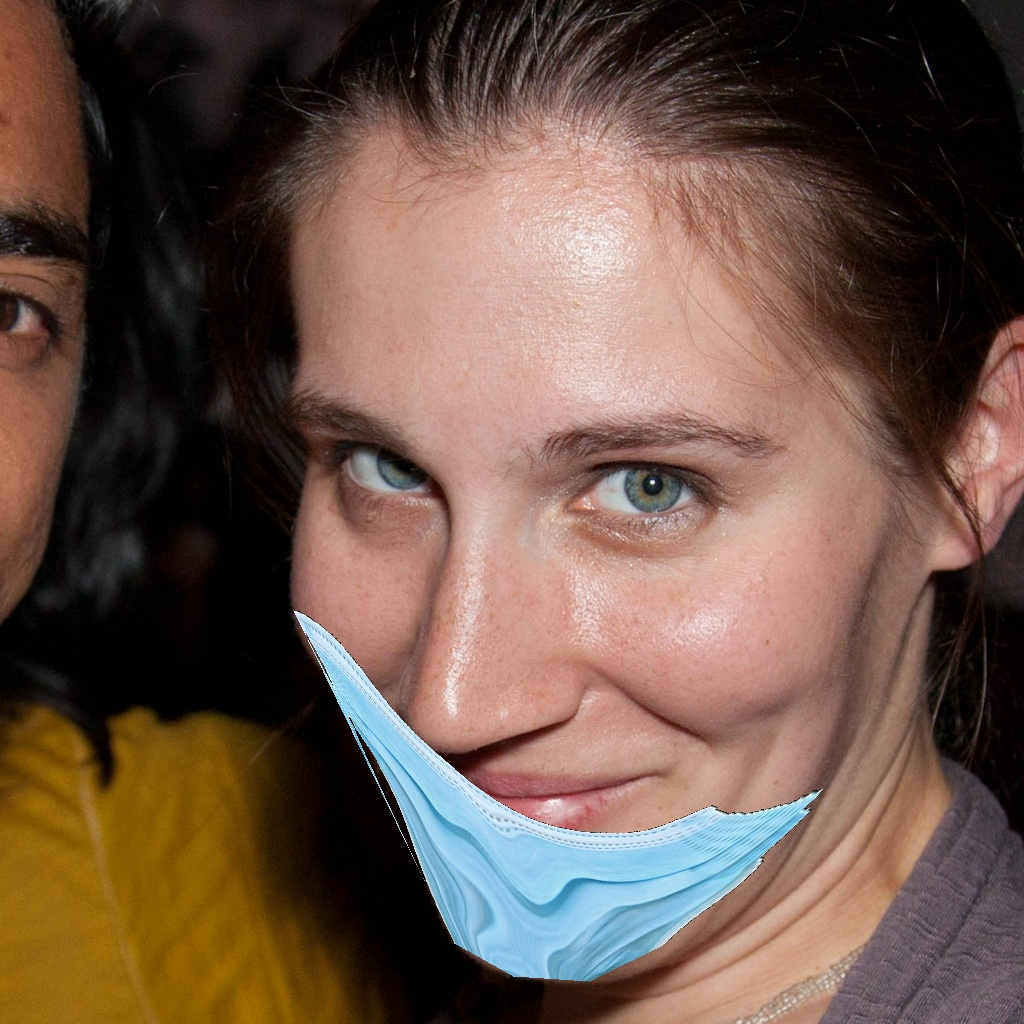mascarilla_mal_puesta: (262, 330, 857, 970)
